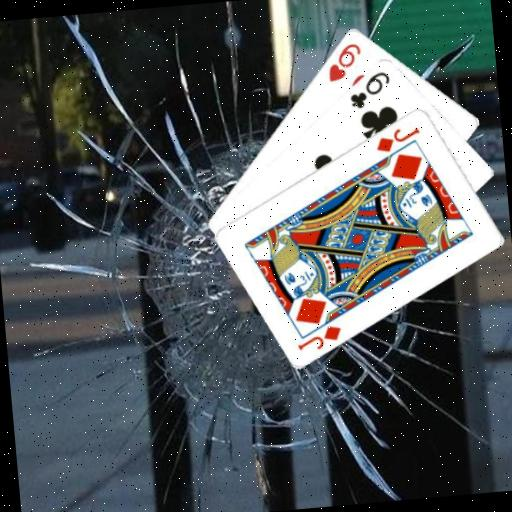6C: (345, 67, 394, 111)
6H: (323, 39, 365, 83)
JD: (372, 122, 424, 155), (293, 321, 345, 353)
